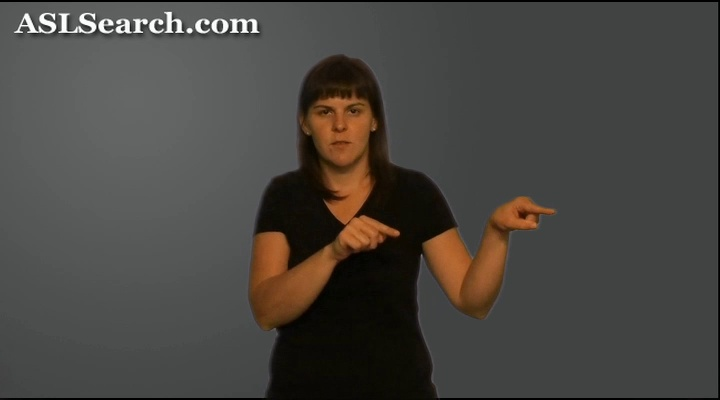go: (314, 186, 576, 275)
